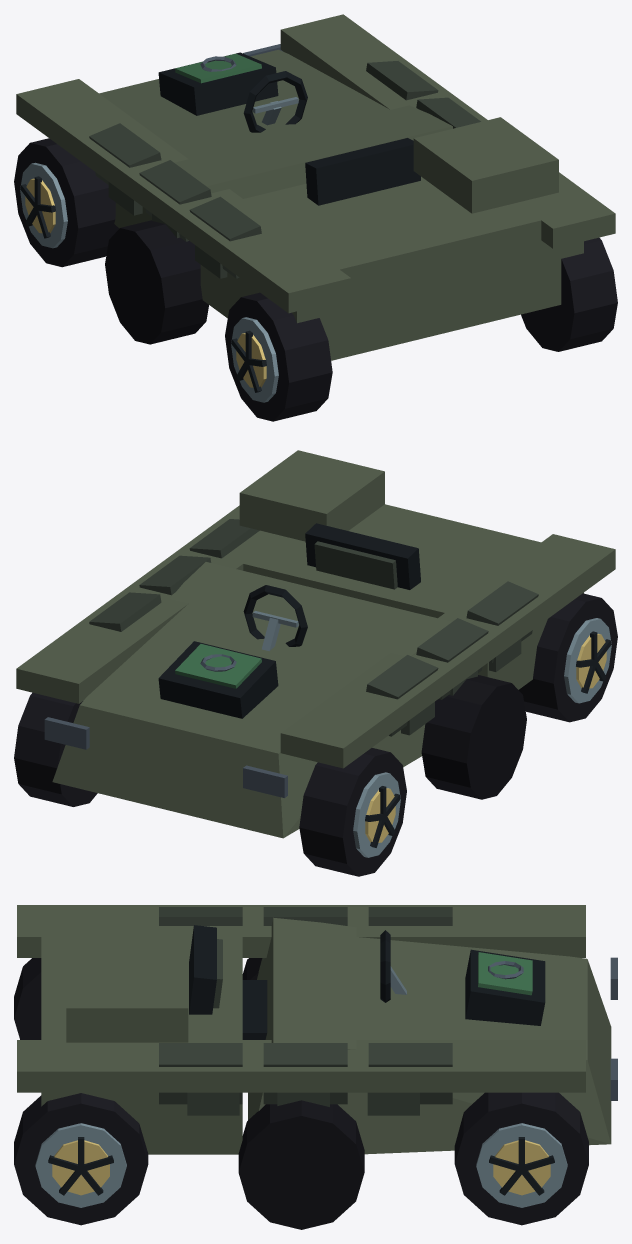
The model's file is kart.glb.
3 views of the same model, one above another, from view 1: azimuth 30°, elevation 25°; view 2: azimuth 150°, elevation 25°; view 3: azimuth 270°, elevation 25° (orthographic). The views are drawn at different scales.
Visible parts, largest first — view 1: identity-apc-apc-armored-hull, wheel-rear-left, wheel-front-left, identity-apc-motif-armor, identity-apc-driver-cockpit, wheel-rear-right, identity-apc-motif-scanner; view 2: identity-apc-apc-armored-hull, wheel-front-left, identity-apc-motif-armor, wheel-rear-left, identity-apc-driver-cockpit, identity-apc-motif-scanner, wheel-front-right; view 3: identity-apc-apc-armored-hull, wheel-front-right, wheel-rear-right, identity-apc-motif-armor, identity-apc-motif-scanner, identity-apc-driver-cockpit, wheel-rear-left.
Part boxes in pixels (x1,y1,x2,y2): identity-apc-apc-armored-hull: (16, 14, 615, 360); wheel-rear-left: (225, 292, 332, 421); wheel-front-left: (14, 138, 119, 267); identity-apc-motif-armor: (89, 61, 480, 278); identity-apc-driver-cockpit: (243, 71, 420, 205); wheel-rear-right: (521, 237, 617, 351); identity-apc-motif-scanner: (158, 52, 278, 115); identity-apc-apc-armored-hull: (16, 450, 615, 838); wheel-front-left: (299, 748, 406, 876); identity-apc-motif-armor: (89, 519, 538, 736); wheel-rear-left: (519, 593, 617, 722); identity-apc-driver-cockpit: (243, 523, 420, 651); identity-apc-motif-scanner: (158, 641, 278, 718); wheel-front-right: (14, 692, 97, 806); identity-apc-apc-armored-hull: (17, 905, 617, 1229); wheel-front-right: (454, 1092, 588, 1225); wheel-rear-right: (14, 1093, 148, 1225); identity-apc-motif-armor: (159, 907, 452, 1104); identity-apc-motif-scanner: (465, 949, 545, 1025); identity-apc-driver-cockpit: (189, 925, 406, 1039); wheel-rear-left: (14, 958, 41, 1039).
Size of the model in its own units: 2.08 by 1.09 by 2.88.
